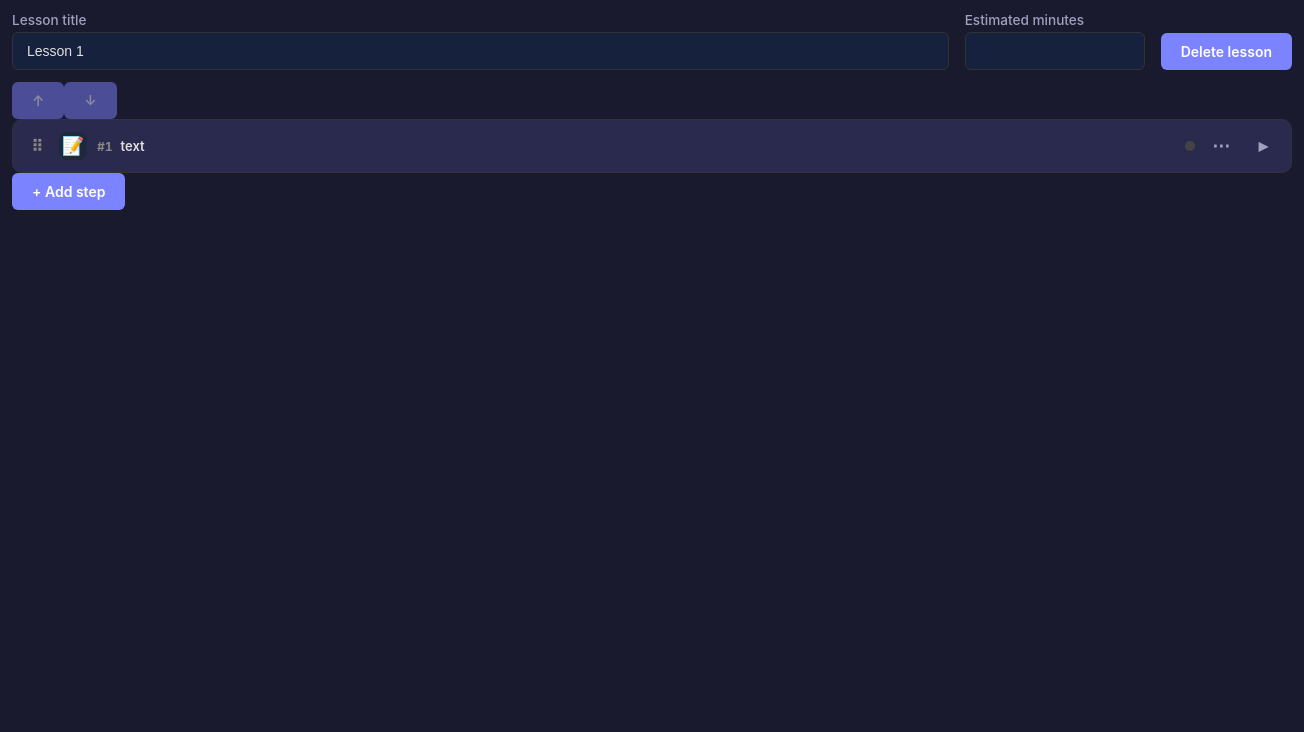
Scenario: <LessonOverview> › «+ Add step» inline-picker: при открытии — picker + cancel + confirm (disabled до выбора)
Click the button with test id "lesson-overview-add-step-btn-l1" at (69, 192), box x1=12 y1=173 x2=125 y2=210
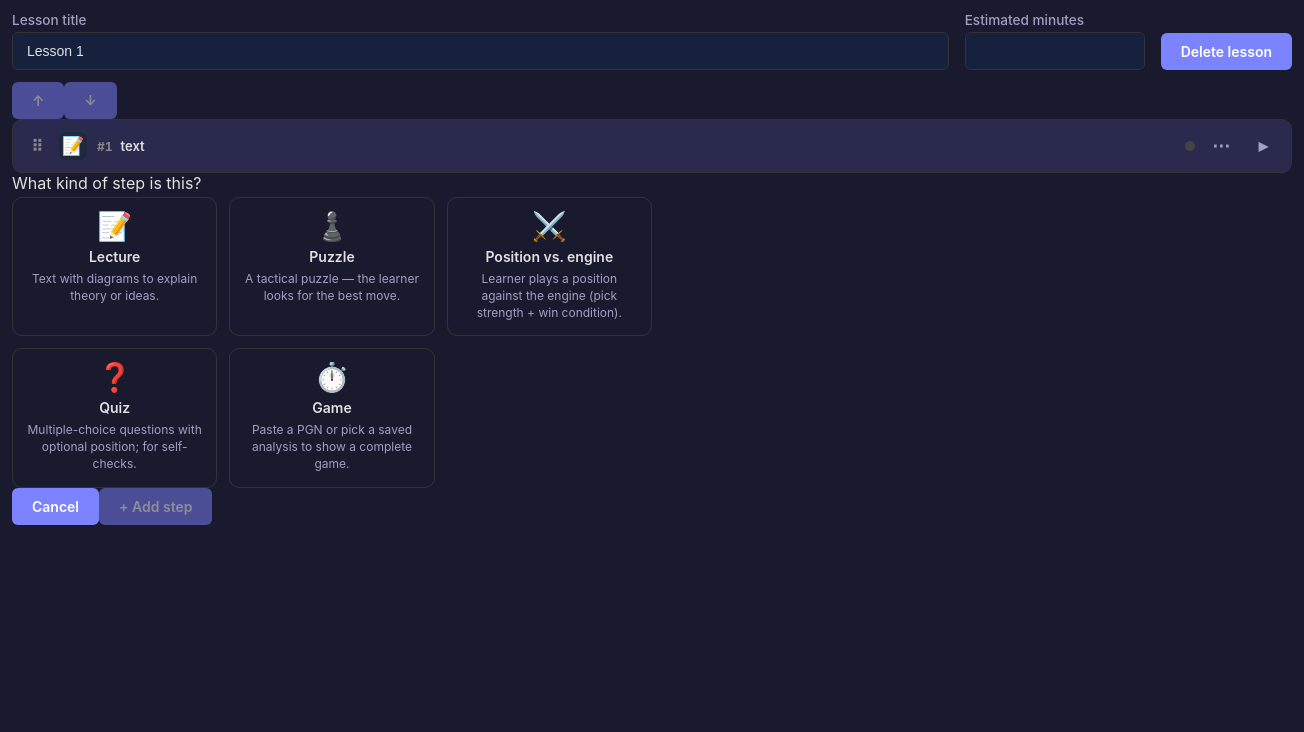
Expected: the button with test id "lesson-overview-add-step-confirm-l1" is disabled, x1=99 y1=488 x2=212 y2=525
Expected: the element with test id "lesson-overview-add-step-picker-l1" is shown, x1=12 y1=173 x2=652 y2=525
Click the radio button with test id "lesson-overview-add-step-types-l1-option-endgame_drill" at (549, 267), box x1=447 y1=197 x2=652 y2=336
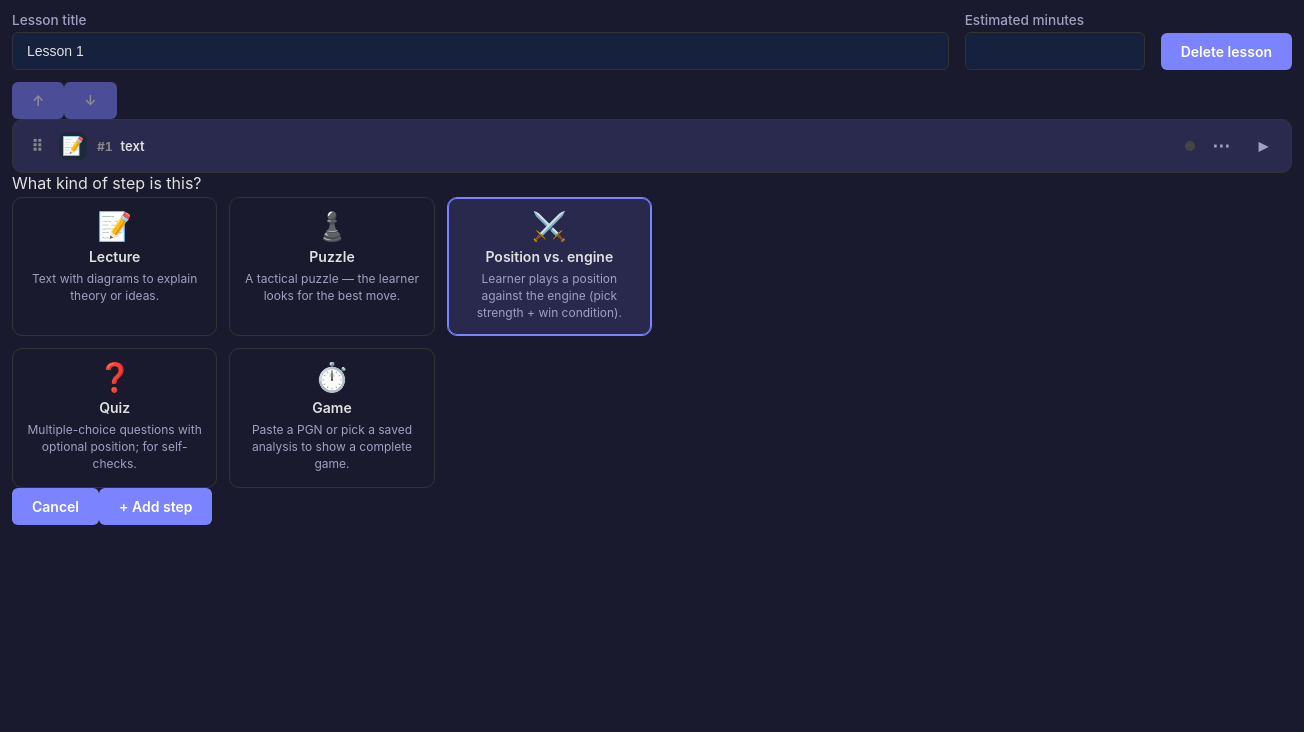
Expected: the button with test id "lesson-overview-add-step-confirm-l1" is enabled, x1=99 y1=488 x2=212 y2=525
